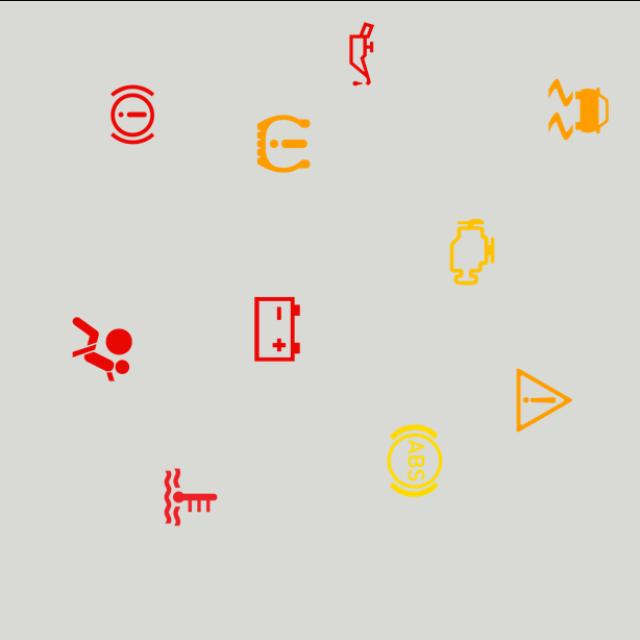Anti Lock Braking System: (376, 420, 454, 499)
Braking System Issue: (93, 74, 172, 153)
Charging System Issue: (238, 289, 317, 368)
Check Engine: (432, 212, 512, 290)
Electronic Stability Problem -ESP-: (539, 69, 618, 148)
Engine Overheating Warning Light: (151, 456, 230, 536)
Low Engine Oil Warning Light: (322, 13, 401, 92)
Low Tire Pressure Warning Light: (244, 104, 323, 182)
Master warning light: (504, 359, 584, 438)
SRS-Airbag: (62, 308, 142, 388)
